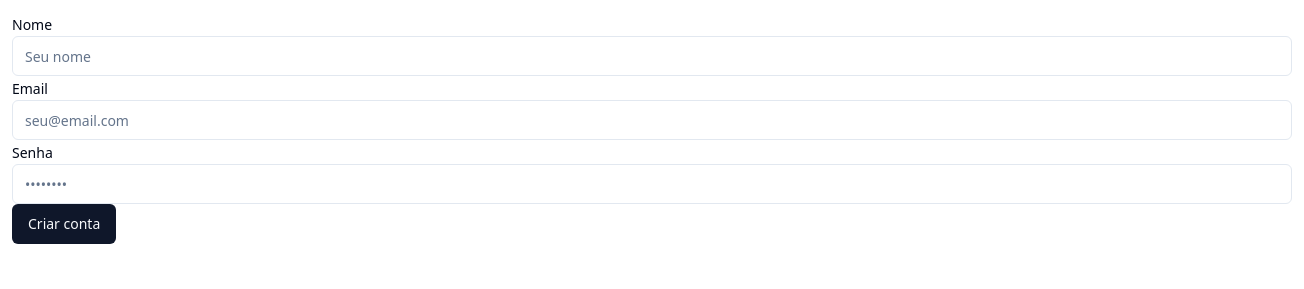
Test case: RegisterForm › should show error when password is too short
This screenshot has width=1304, height=289.
Step 1. Type "João" into the field labelled "Nome" → (652, 56), box [12, 36, 1292, 76]
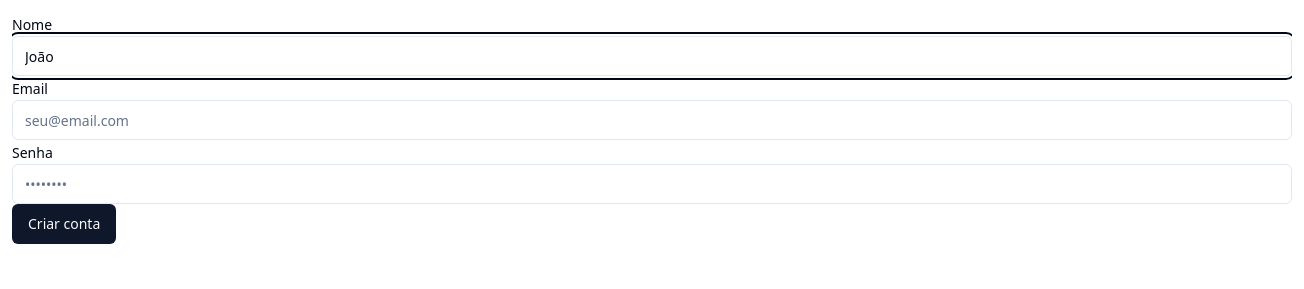
Step 2. Type "joao@test.com" into the field labelled "Email" → (652, 120), box [12, 100, 1292, 140]
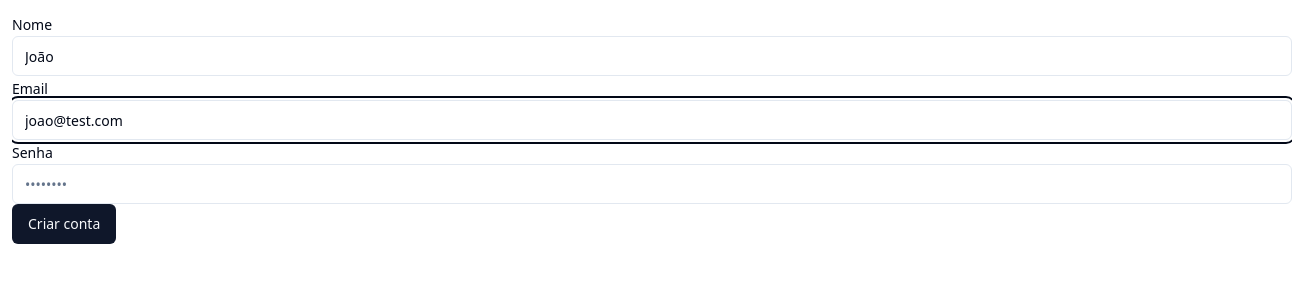
Step 3. Type "123" into the password field labelled "Senha" → (652, 184), box [12, 164, 1292, 204]
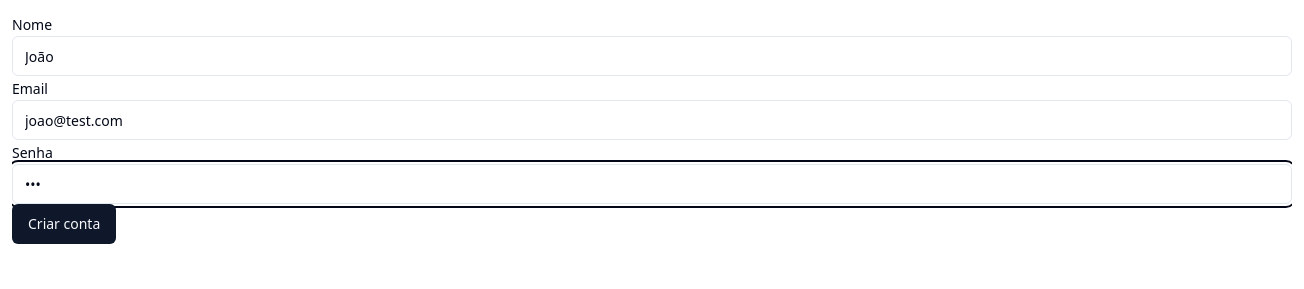
Step 4. Click the button "Criar conta" → (64, 224), box [12, 204, 116, 244]
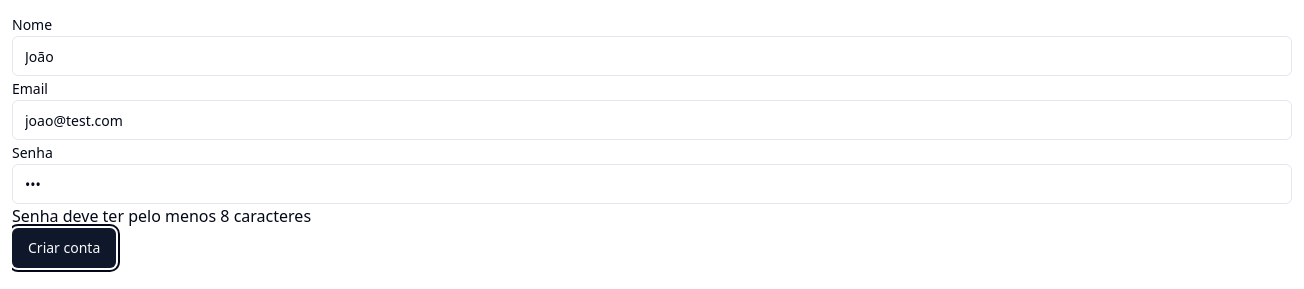
Expected: the text "Senha deve ter pelo menos 8 caracteres" is shown, [12, 205, 311, 227]
